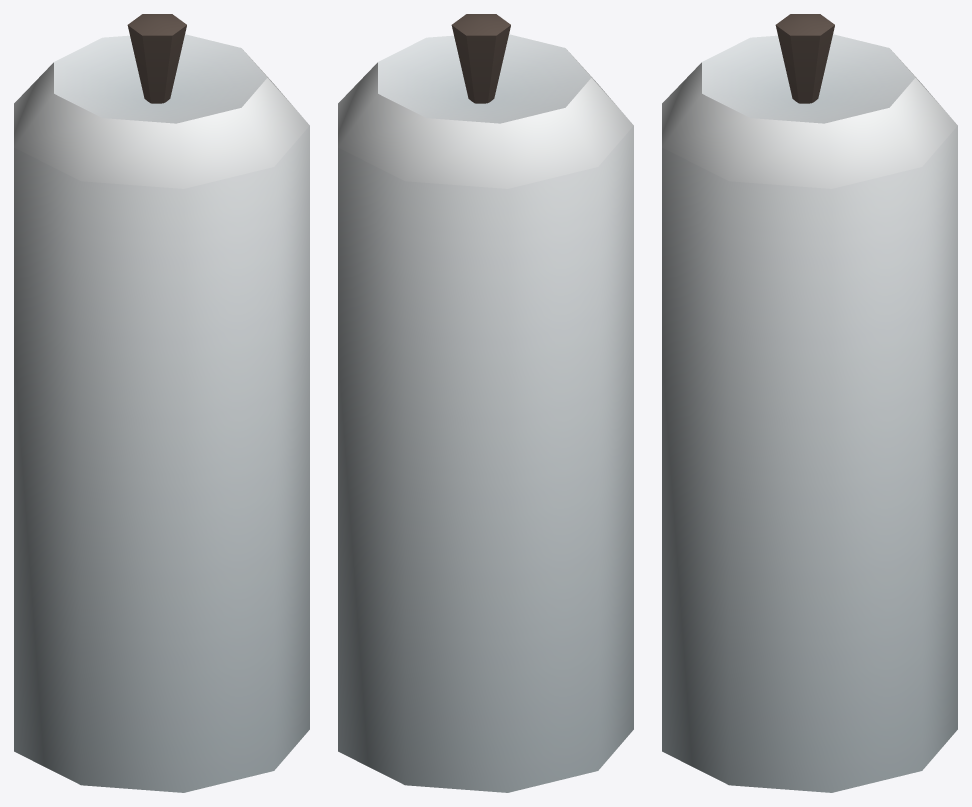
Rendered from cc0-candle-lod0.glb.
3 views of the same model, side by side, from view 1: azimuth 30°, elevation 25°; view 2: azimuth 150°, elevation 25°; view 3: azimuth 270°, elevation 25° (orthographic).
Visible parts, largest first — view 1: part_0; view 2: part_0; view 3: part_0.
Part boxes in pixels (box(x1,y1,x2,y2)): part_0: box(14, 14, 309, 792); part_0: box(338, 14, 633, 792); part_0: box(662, 14, 957, 792).
Bounding box in the file's own units: 0.3009 × 0.7857 × 0.2964.
1 material, 1 textured.
